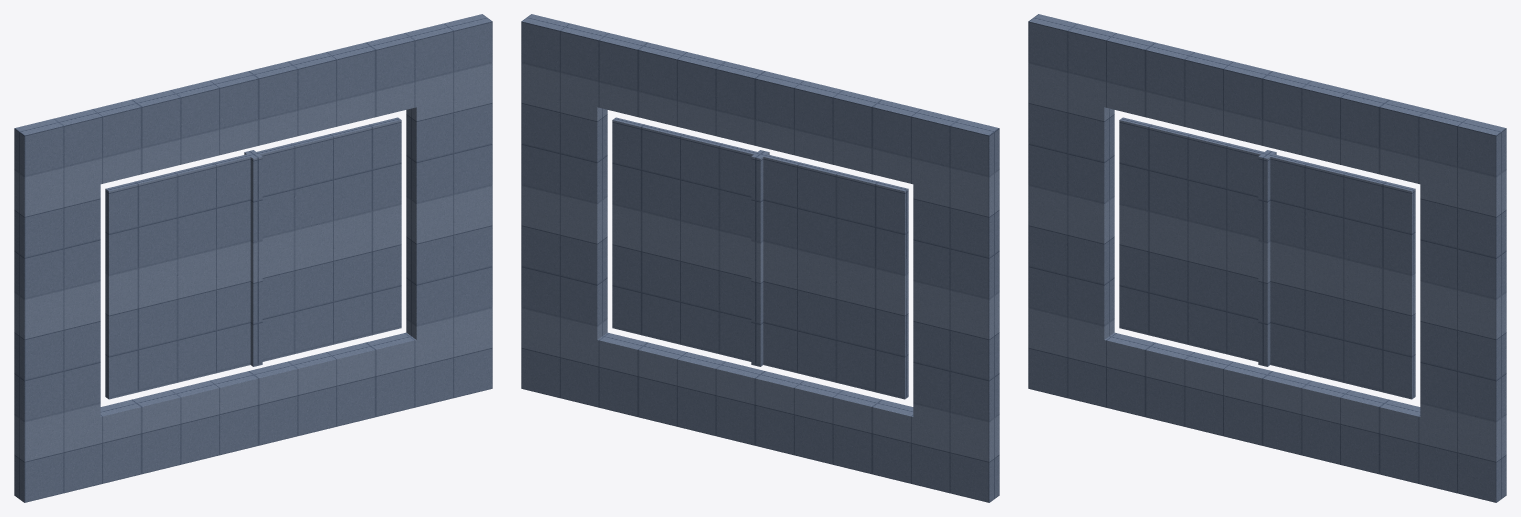
3 renders of one model, left to right at view 1: azimuth 30°, elevation 25°; view 2: azimuth 150°, elevation 25°; view 3: azimuth 330°, elevation 25°, orthographic.
Visible parts, largest first — view 1: win_brick_2u_production_run001; view 2: win_brick_2u_production_run001; view 3: win_brick_2u_production_run001.
Boxes of the visible parts, x1,y1,x2,y2 form: win_brick_2u_production_run001: [14, 14, 492, 502]; win_brick_2u_production_run001: [521, 14, 999, 502]; win_brick_2u_production_run001: [1028, 14, 1506, 502].
Size of the model in its own units: 4 by 3 by 0.15.
Materials: 1 (1 with a texture image).
